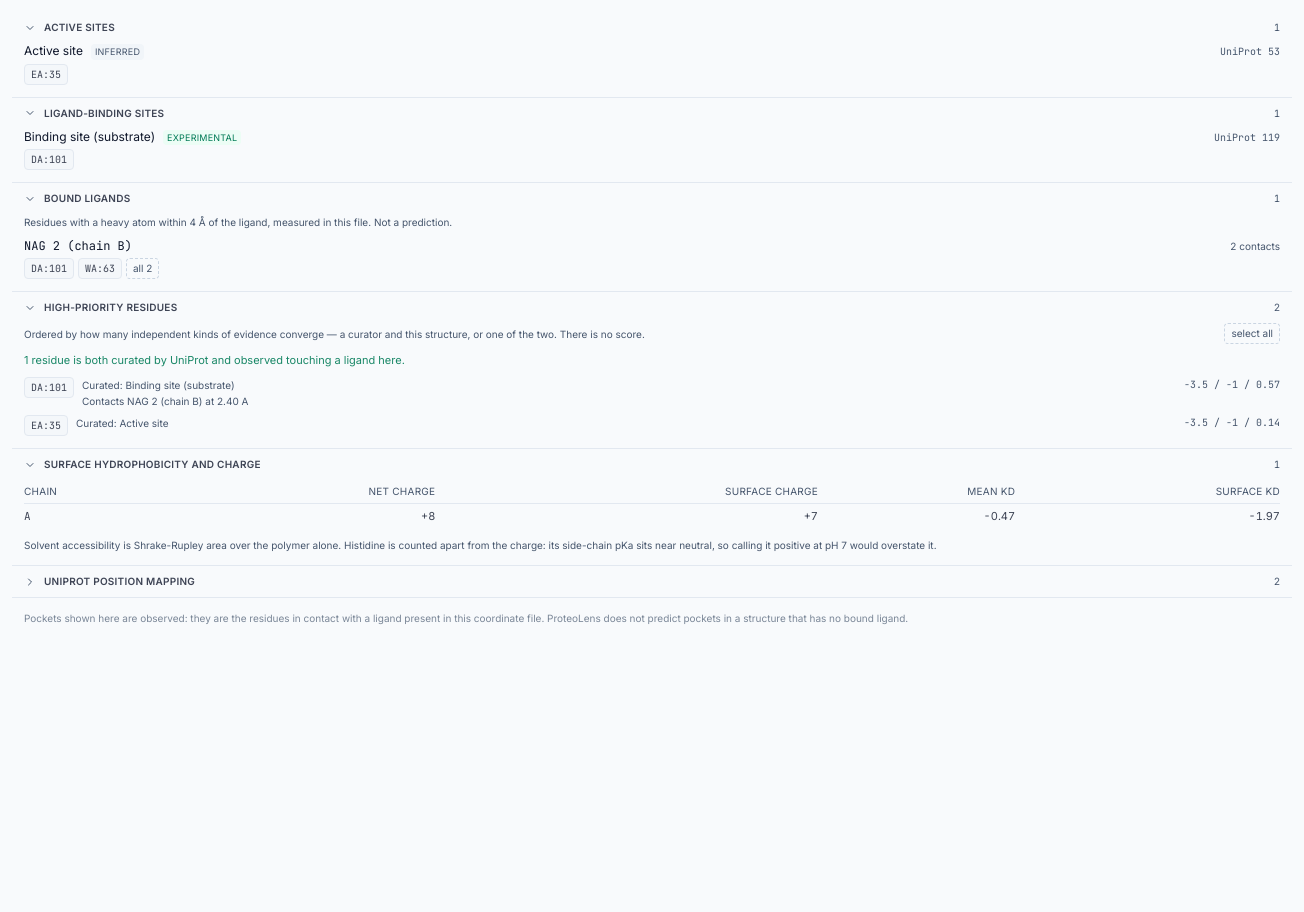
Test: FunctionalRegionsPanel › shows how each chain was mapped, including a refusal
The image size is (1304, 912).
Click the text "UniProt position mapping". click: (120, 582)
box: [44,574,195,589]
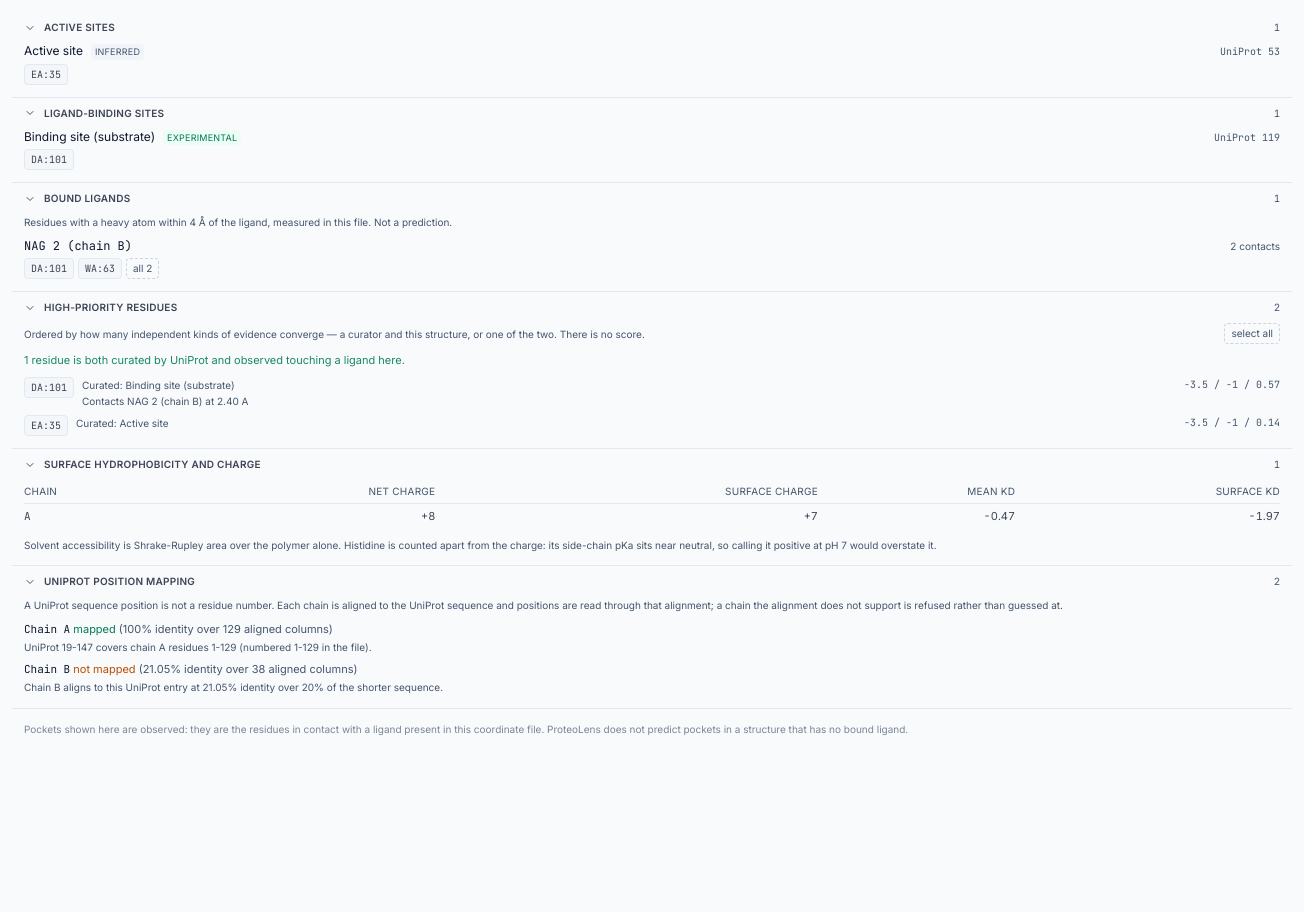
Now the text "mapped" is shown, box [73,622,116,636]
Now the text "not mapped" is shown, box [73,662,136,676]
Now the text "Chain B aligns to this UniProt entry at 21.05% identity" is shown, box [24,681,443,693]
